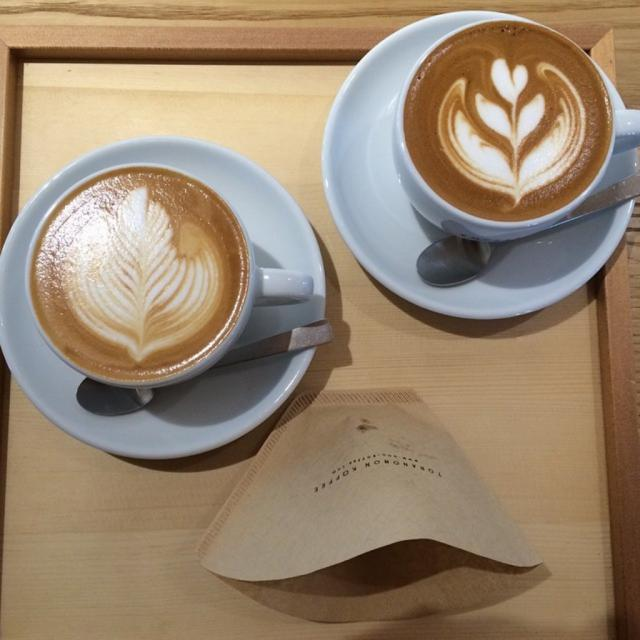non-organic waste: (0, 121, 331, 483), (316, 16, 640, 331)
